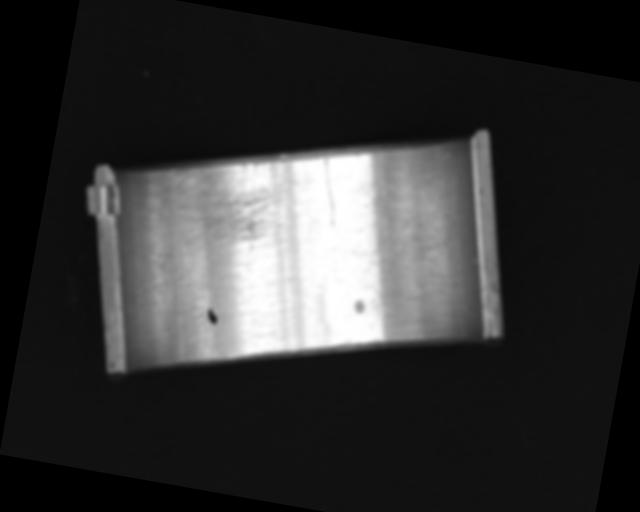blot: (205, 306, 219, 324)
bruise: (353, 299, 366, 315)
nick: (417, 238, 480, 338), (313, 157, 345, 227)
scratch: (158, 138, 298, 255)
